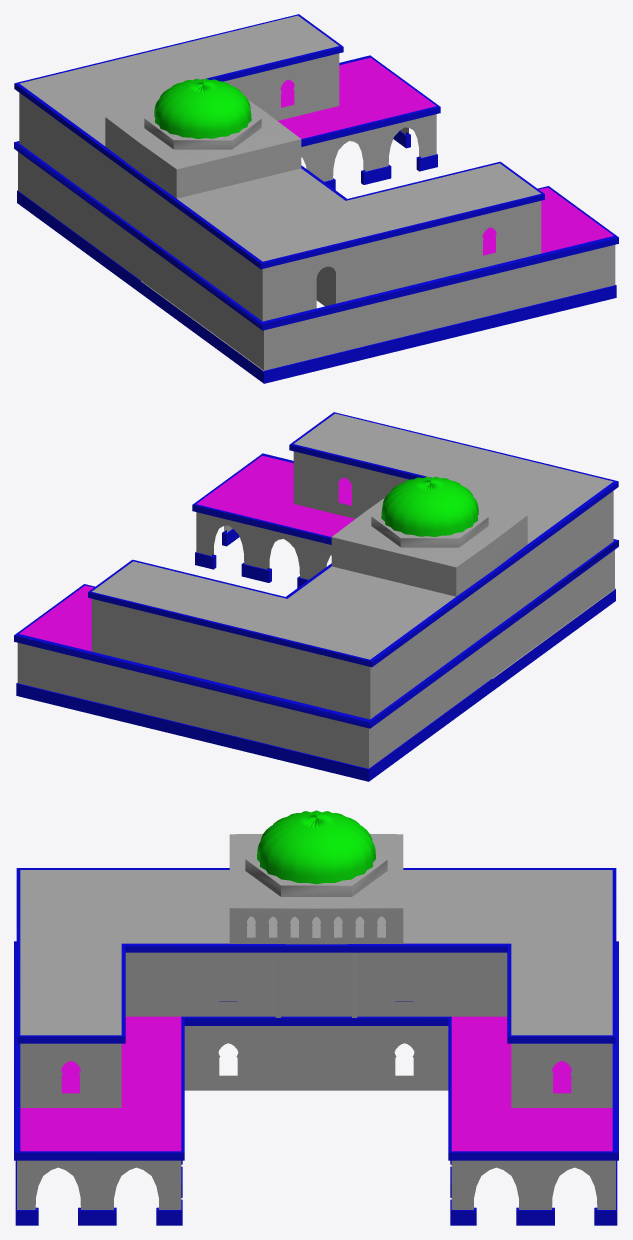
The model's file is Dom_znati_osobnak.fbx.
3 views of the same model, one above another, from view 1: azimuth 30°, elevation 25°; view 2: azimuth 150°, elevation 25°; view 3: azimuth 270°, elevation 25° (orthographic). The views are drawn at different scales.
Visible parts, largest first — view 1: Dom_znati_1_osobnak; view 2: Dom_znati_1_osobnak; view 3: Dom_znati_1_osobnak.
Boxes of the visible parts, x1,y1,x2,y2 form: Dom_znati_1_osobnak: (14, 14, 618, 383); Dom_znati_1_osobnak: (14, 412, 618, 781); Dom_znati_1_osobnak: (14, 810, 618, 1225).
Size of the model in its own units: 155 by 80.69 by 187.
